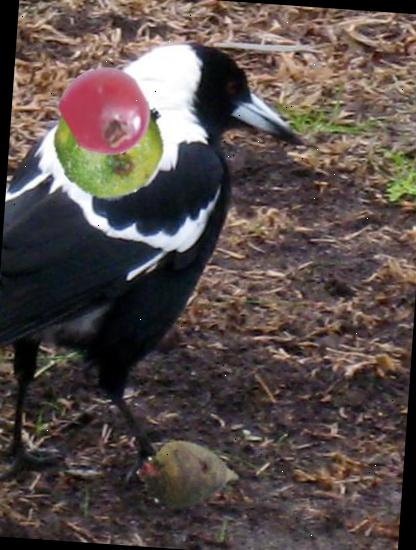Beetroot: (132, 418, 244, 530)
Limes: (49, 81, 169, 201)
Redcurrant: (58, 64, 154, 160)
